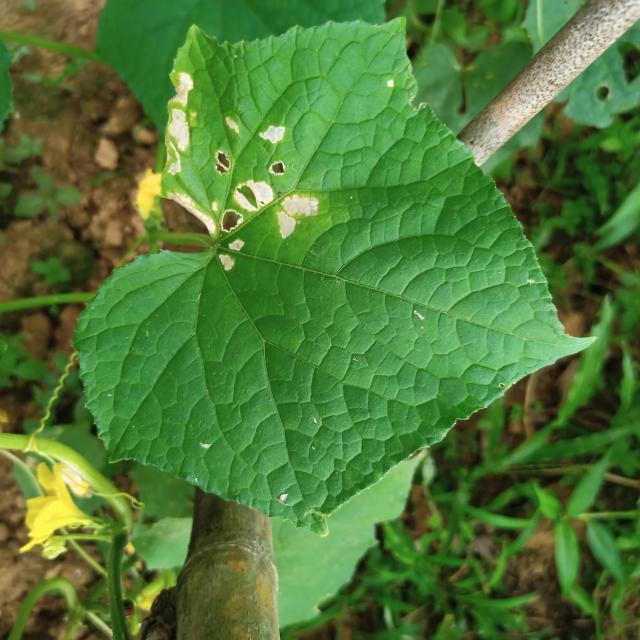disease_cucumber: (166, 72, 320, 268)
